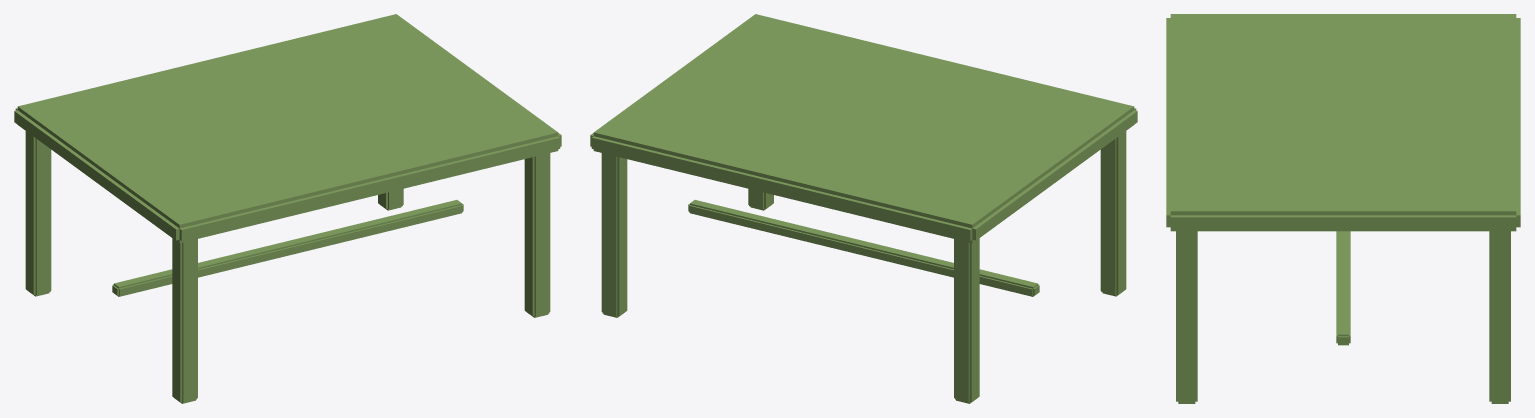
File: cactus_table_v0.glb
3 renders of one model, left to right at view 1: azimuth 30°, elevation 25°; view 2: azimuth 150°, elevation 25°; view 3: azimuth 270°, elevation 25°, orthographic. The views are drawn at different scales.
Parts seen in each view (by area): view 1: cactus_table_v0; view 2: cactus_table_v0; view 3: cactus_table_v0.
Part boxes in pixels (bbox=[...]): cactus_table_v0: bbox=[14, 14, 561, 403]; cactus_table_v0: bbox=[590, 14, 1137, 403]; cactus_table_v0: bbox=[1166, 14, 1520, 403].
Bounding box in the file's own units: 1.96 × 0.89 × 1.46.
